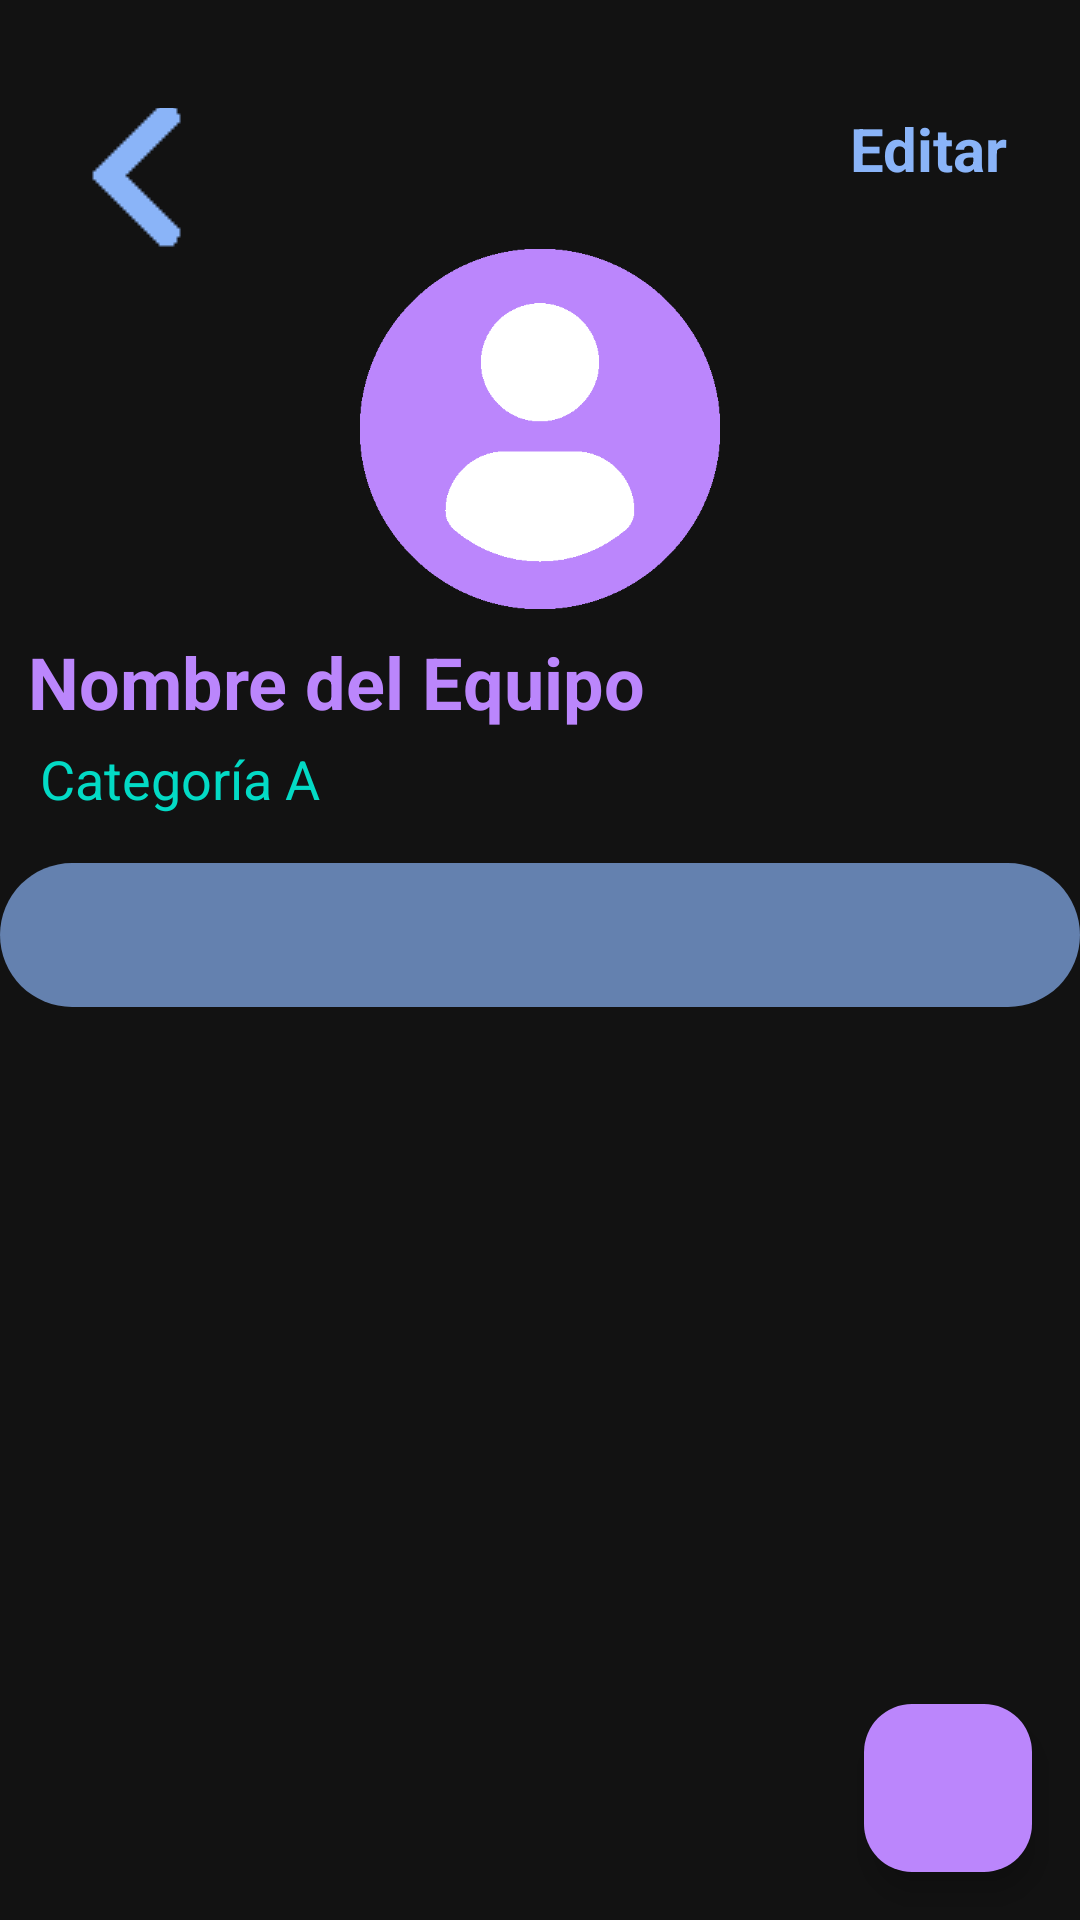

Where icons sit on this 1080*1920 app screen, as (x1, y1, x2, y2):
Volver atrás: (92, 108, 181, 247)
